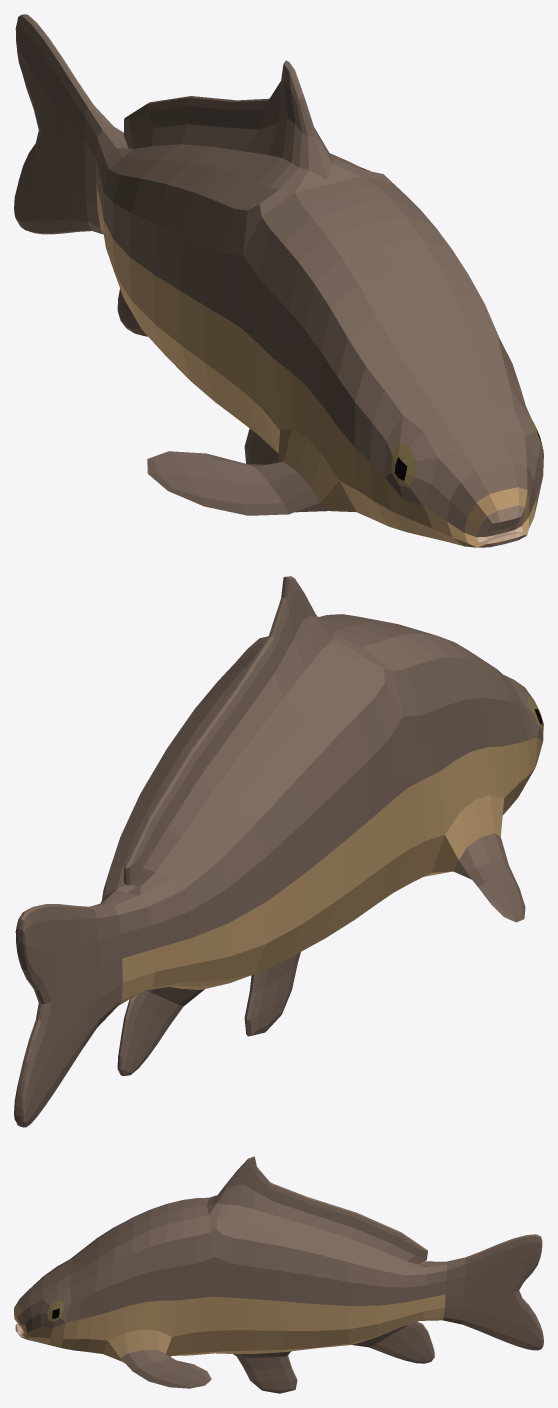
The model's file is Fish.fbx.
3 views of the same model, one above another, from view 1: azimuth 30°, elevation 25°; view 2: azimuth 150°, elevation 25°; view 3: azimuth 270°, elevation 25° (orthographic). The views are drawn at different scales.
Parts seen in each view (by area): view 1: Fish; view 2: Fish; view 3: Fish.
Part boxes in pixels (x1=…): Fish: x1=14, y1=14, x2=543, y2=547; Fish: x1=14, y1=576, x2=543, y2=1127; Fish: x1=14, y1=1156, x2=543, y2=1393.
Size of the model in its own units: 13.23 by 15.06 by 30.48.
